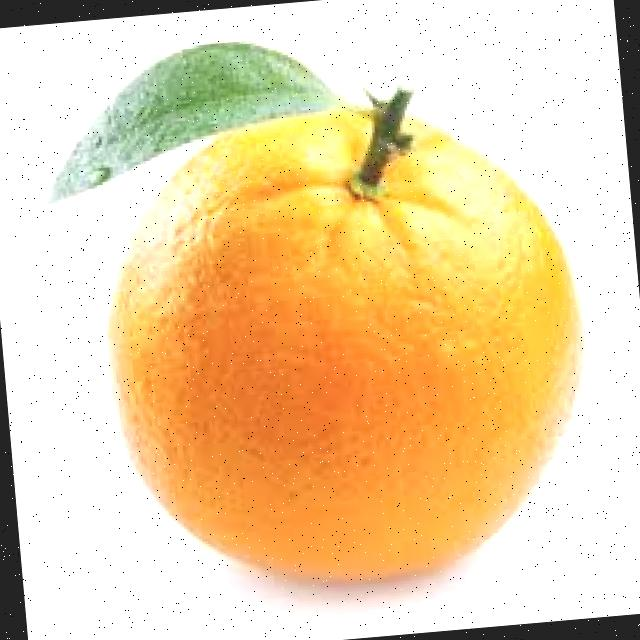Ripe: (72, 70, 607, 608)
